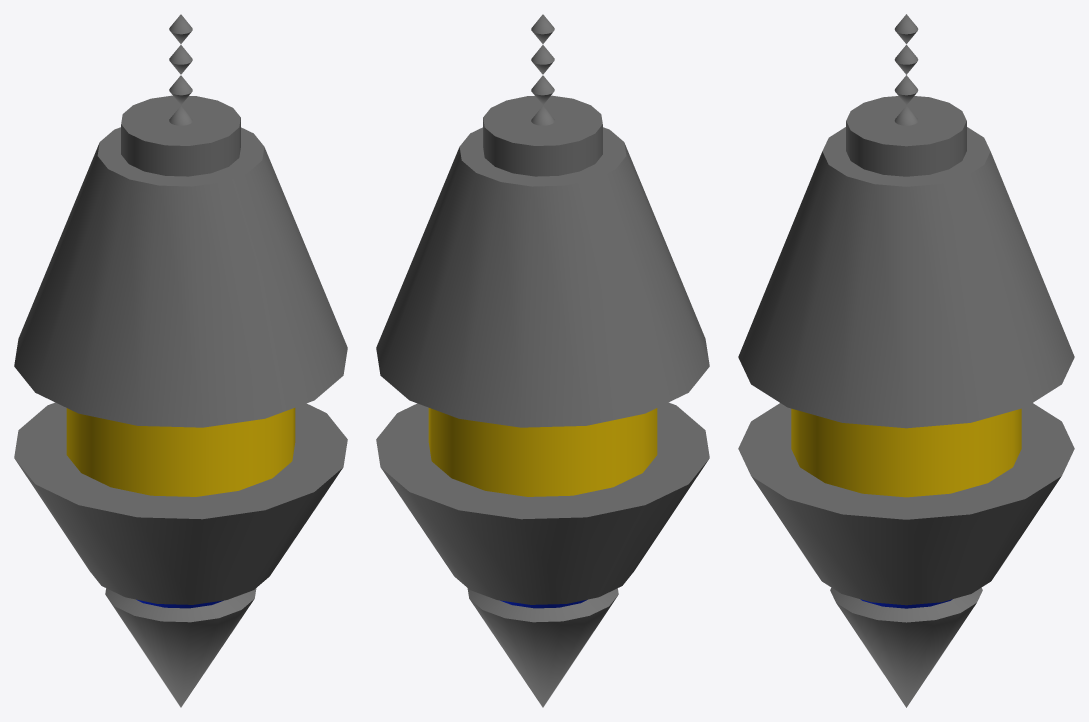
File: Mirror.fbx
3 views of the same model, side by side, from view 1: azimuth 30°, elevation 25°; view 2: azimuth 150°, elevation 25°; view 3: azimuth 270°, elevation 25° (orthographic).
Visible parts, largest first — view 1: Cube; view 2: Cube; view 3: Cube.
Part boxes in pixels (x1,y1,x2,y2): Cube: (14, 14, 347, 707); Cube: (376, 14, 709, 707); Cube: (738, 14, 1074, 707).
Bounding box in the file's own units: 200 × 455 × 200.
